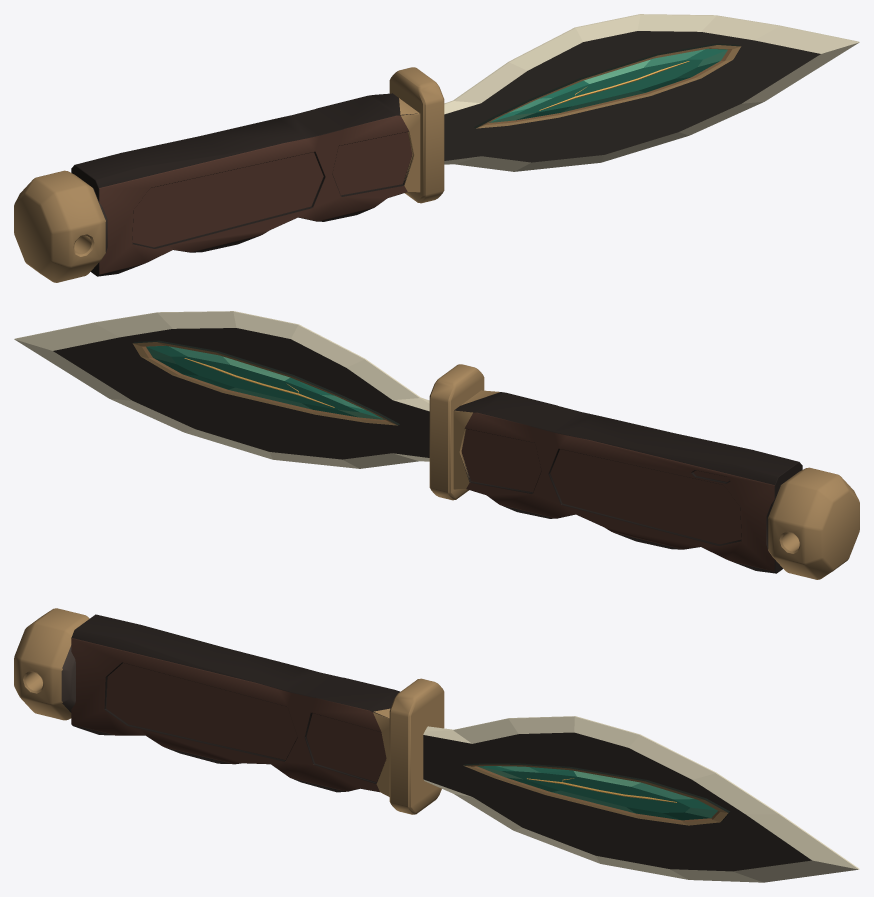
The model's file is Leafblade_Rootglass_v02.fbx.
The picture shows the model from 3 angles, top to bottom: view 1: azimuth 30°, elevation 25°; view 2: azimuth 150°, elevation 25°; view 3: azimuth 330°, elevation 25°; orthographic projection.
Visible parts, largest first — view 1: Knife_Hilt, Rootglass_BroadLeafBlade, Rootglass_SpineRight_FacetedMineral, Rootglass_SpineRight_BronzeSeat; view 2: Knife_Hilt, Rootglass_BroadLeafBlade, Rootglass_SpineLeft_FacetedMineral, Rootglass_SpineLeft_BronzeSeat; view 3: Knife_Hilt, Rootglass_BroadLeafBlade, Rootglass_SpineRight_FacetedMineral, Rootglass_SpineRight_BronzeSeat.
Part boxes in pixels (bbox=[...]): Knife_Hilt: bbox=[14, 67, 444, 282]; Rootglass_BroadLeafBlade: bbox=[444, 14, 859, 171]; Rootglass_SpineRight_FacetedMineral: bbox=[489, 48, 727, 122]; Rootglass_SpineRight_BronzeSeat: bbox=[474, 43, 741, 128]; Knife_Hilt: bbox=[429, 364, 859, 579]; Rootglass_BroadLeafBlade: bbox=[14, 311, 429, 468]; Rootglass_SpineLeft_FacetedMineral: bbox=[146, 345, 384, 419]; Rootglass_SpineLeft_BronzeSeat: bbox=[132, 340, 399, 425]; Knife_Hilt: bbox=[14, 608, 444, 814]; Rootglass_BroadLeafBlade: bbox=[423, 716, 859, 882]; Rootglass_SpineRight_FacetedMineral: bbox=[477, 766, 717, 820]; Rootglass_SpineRight_BronzeSeat: bbox=[463, 763, 729, 825].
Bounding box in the file's own units: 172 × 28 × 18.11.
